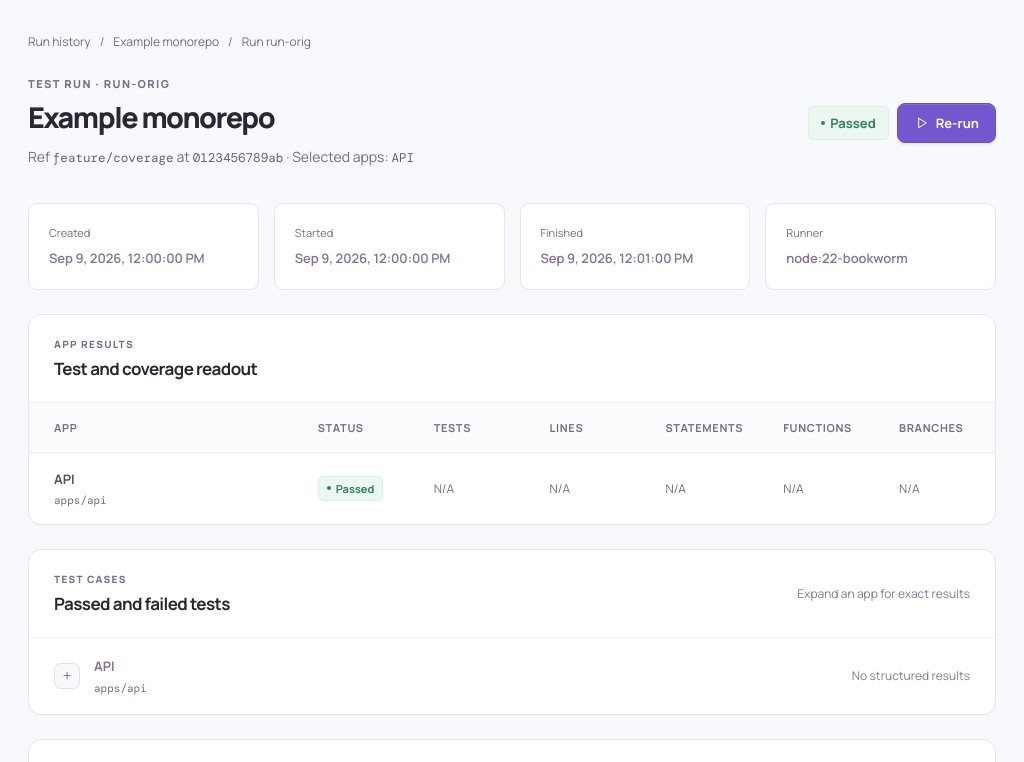
Test: run detail re-run action › clears the queueing state when the router reuses the page for the new run
Step 1. Click the button "Re-run" → (946, 123), box [897, 103, 996, 143]
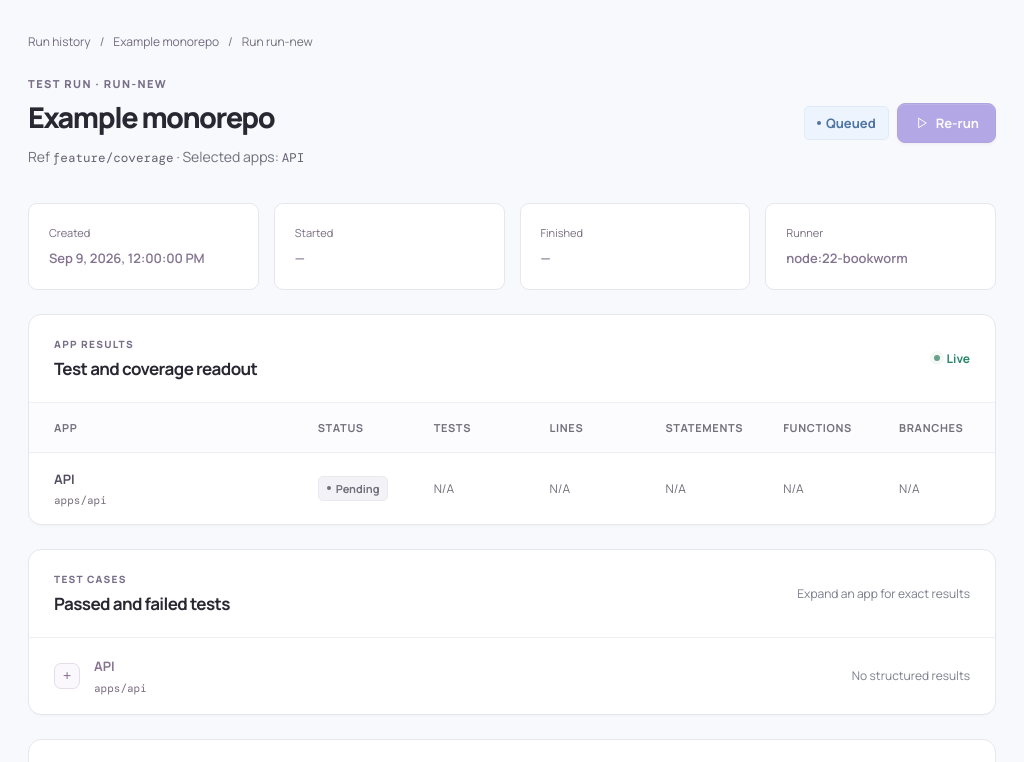
Expected: the button "Re-run" is disabled, [897, 103, 996, 143]
